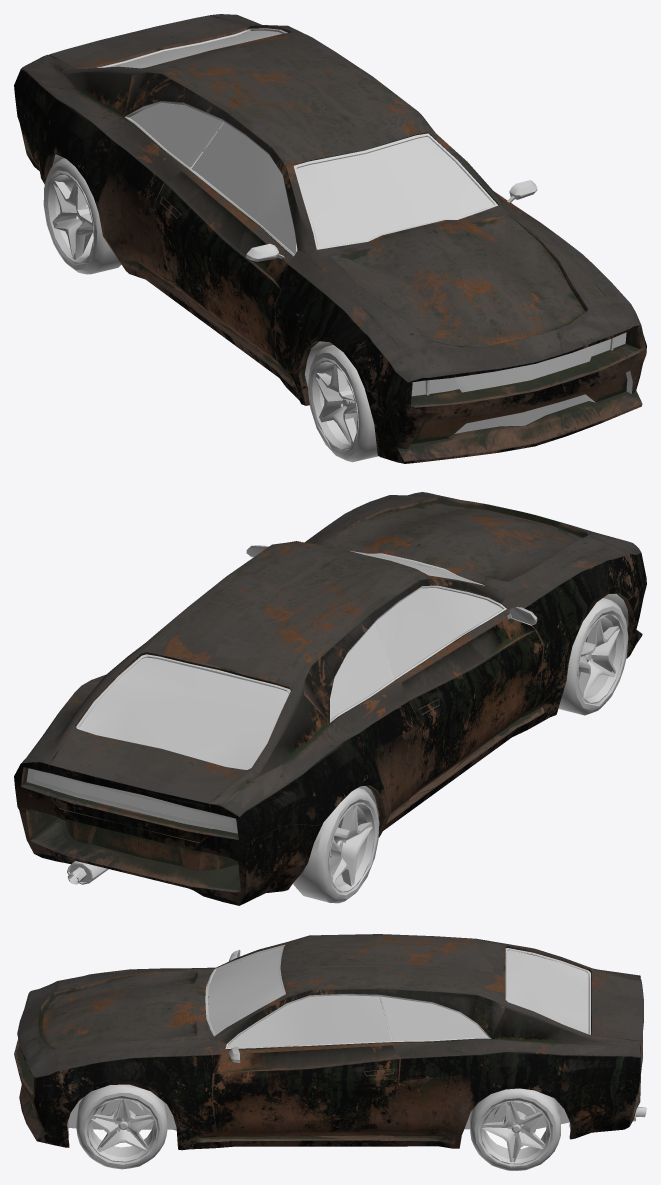
File: car3-lod1.fbx
3 renders of one model, top to bottom at view 1: azimuth 30°, elevation 25°; view 2: azimuth 150°, elevation 25°; view 3: azimuth 270°, elevation 25°, orthographic. The views are drawn at different scales.
Parts seen in each view (by area): view 1: car3-lod1; view 2: car3-lod1; view 3: car3-lod1.
Boxes of the visible parts, box(x1,y1,x2,y2) form: car3-lod1: box(14, 14, 646, 463); car3-lod1: box(14, 492, 646, 905); car3-lod1: box(14, 934, 646, 1170).
Bounding box in the file's own units: 1.82 × 1.28 × 4.5.
